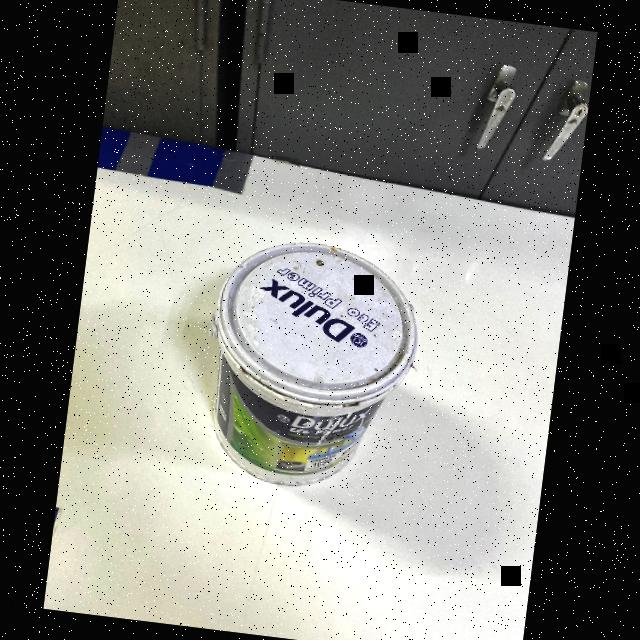paint_bucket: (185, 226, 438, 512)
